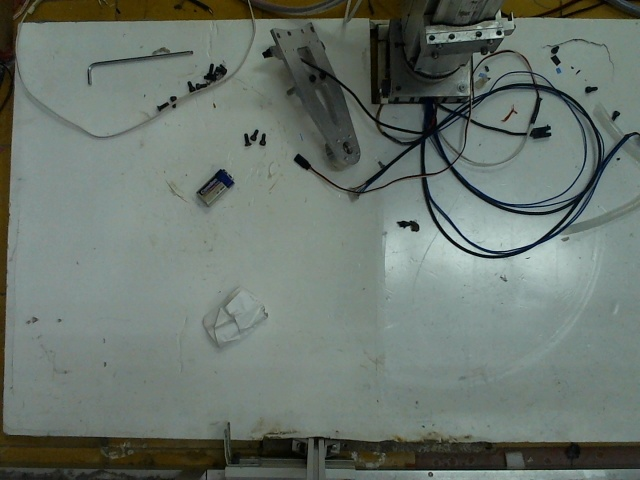battery: (194, 166, 235, 202)
